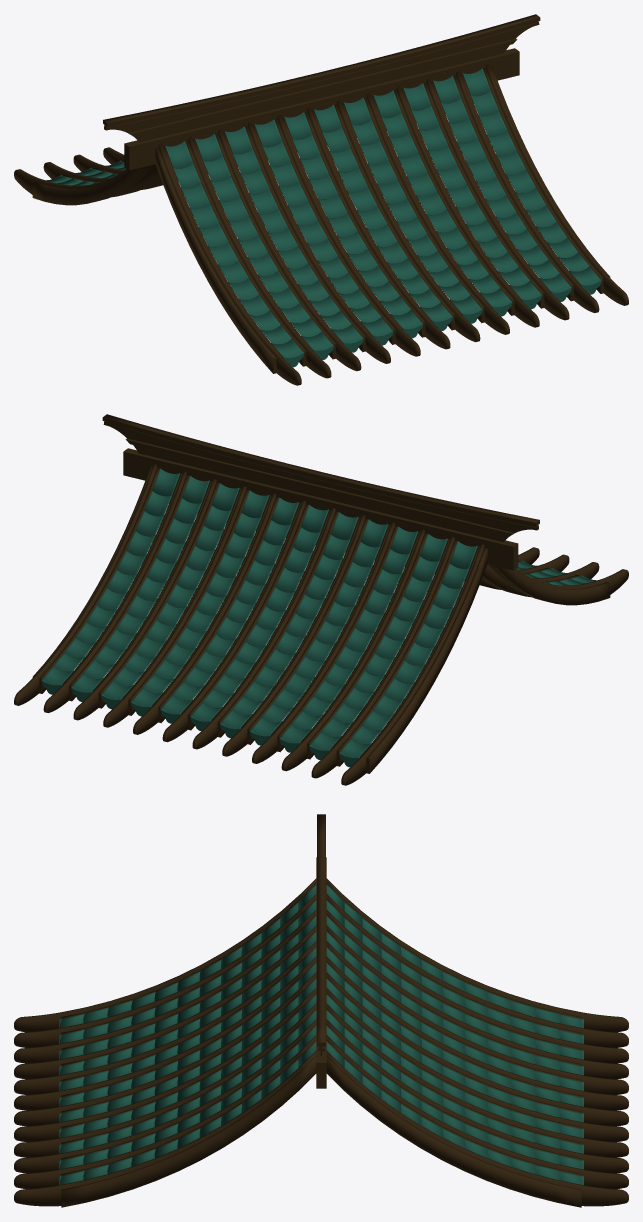
The picture shows the model from 3 angles, top to bottom: view 1: azimuth 30°, elevation 25°; view 2: azimuth 150°, elevation 25°; view 3: azimuth 270°, elevation 25°; orthographic projection. The views are drawn at different scales.
Visible parts, largest first — view 1: Frame_0, Tiles_1, RoofCaps_2; view 2: Frame_0, Tiles_1, RoofCaps_2; view 3: Frame_0, Tiles_1.
Part boxes in pixels (x1,y1,x2,y2): Frame_0: [14, 14, 628, 385]; Tiles_1: [47, 68, 599, 357]; RoofCaps_2: [46, 160, 601, 367]; Frame_0: [14, 414, 628, 785]; Tiles_1: [43, 468, 595, 757]; RoofCaps_2: [41, 560, 596, 767]; Frame_0: [14, 814, 628, 1207]; Tiles_1: [60, 884, 582, 1184].
Size of the model in its own units: 16.71 by 6.51 by 19.01.
